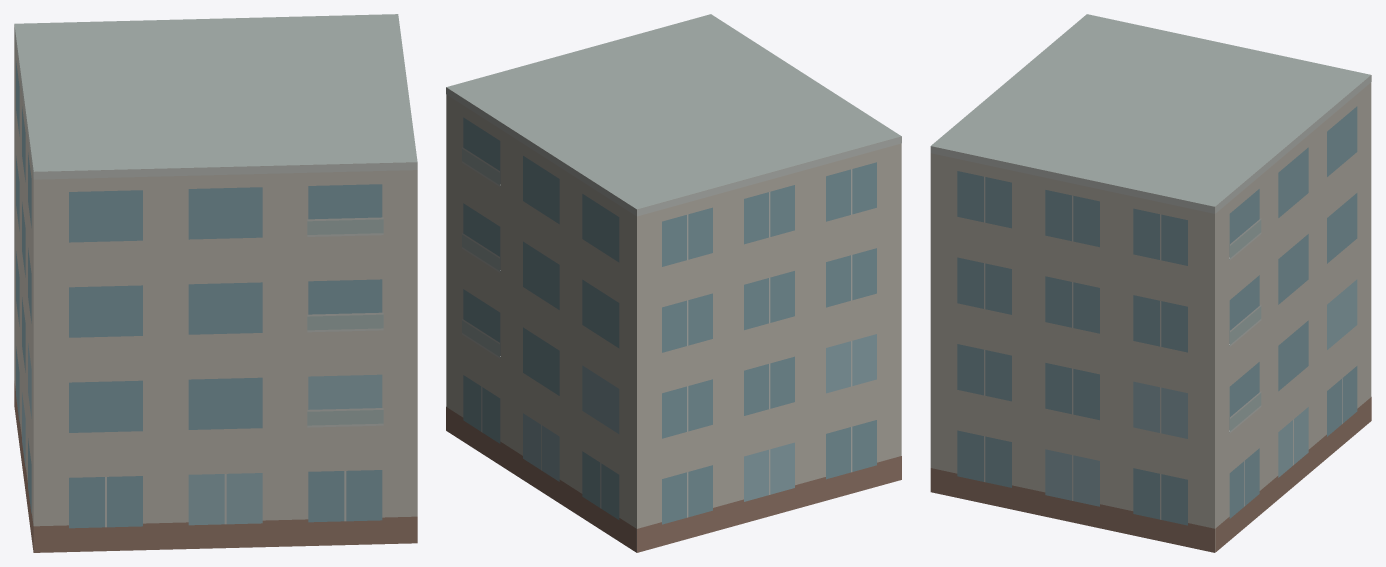
Rendered from survey-upis-32980786.glb.
The picture shows the model from 3 angles, left to right: view 1: azimuth 30°, elevation 25°; view 2: azimuth 150°, elevation 25°; view 3: azimuth 270°, elevation 25°; orthographic projection. The views are drawn at different scales.
Parts seen in each view (by area): view 1: survey-upis-32980786.tmp; view 2: survey-upis-32980786.tmp; view 3: survey-upis-32980786.tmp.
Part boxes in pixels (x1,y1,x2,y2): survey-upis-32980786.tmp: (14,14,417,552); survey-upis-32980786.tmp: (446,14,901,552); survey-upis-32980786.tmp: (930,14,1371,552).
Size of the model in its own units: 14.11 by 11.8 by 13.63.
